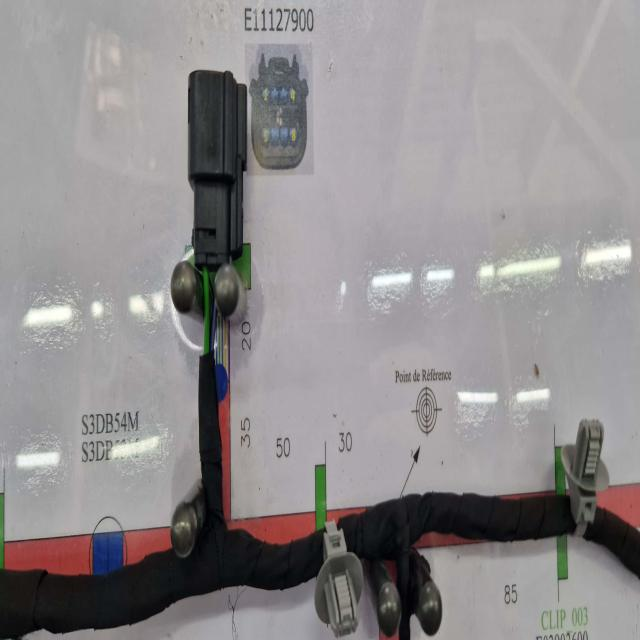Connector: (187, 66, 247, 262), (563, 413, 610, 528), (315, 524, 362, 638)
Gape: (196, 264, 220, 366)
MHEV_N11_Cable: (17, 358, 322, 640), (340, 487, 574, 637), (562, 502, 640, 579)
